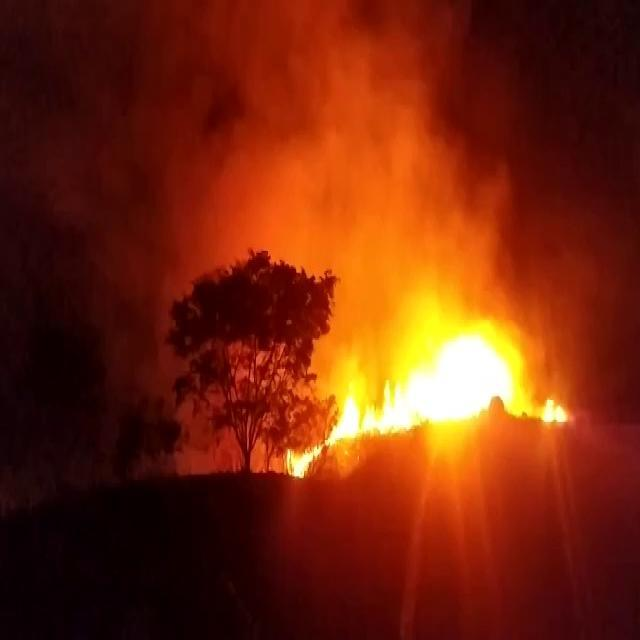Fire: (288, 304, 548, 470), (376, 366, 410, 446), (331, 380, 363, 460), (279, 438, 318, 491), (541, 393, 571, 442)
Smoke: (130, 0, 529, 245)
